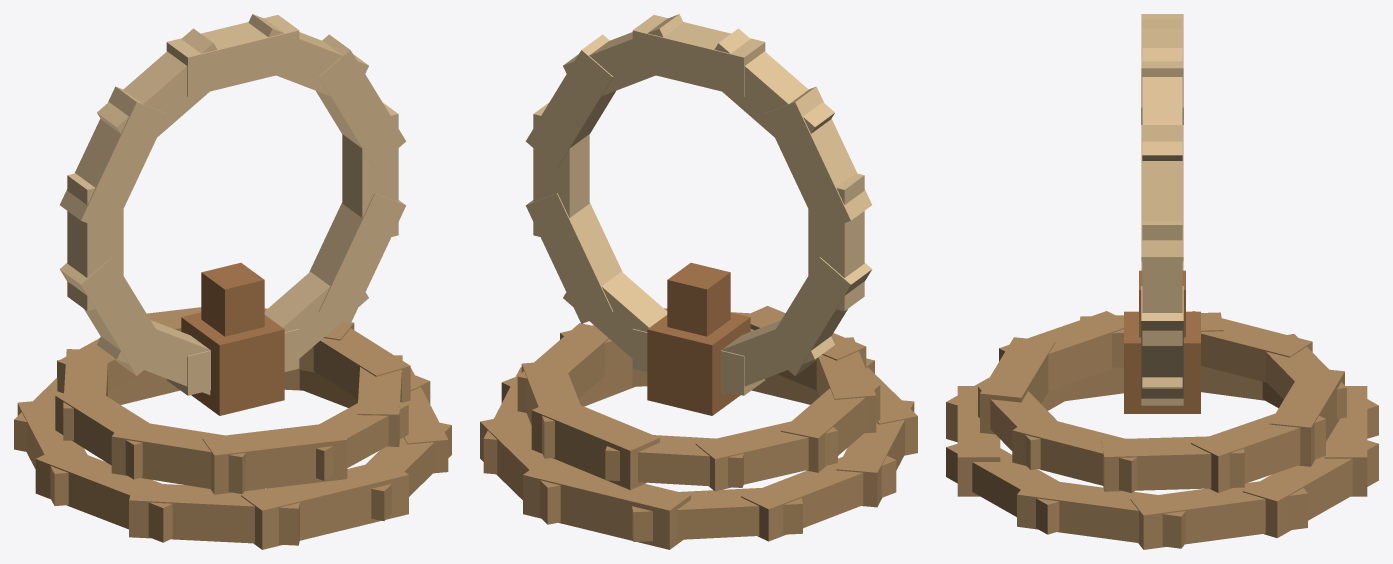
The model's file is lasso.glb.
3 renders of one model, left to right at view 1: azimuth 30°, elevation 25°; view 2: azimuth 150°, elevation 25°; view 3: azimuth 270°, elevation 25°, orthographic.
Parts seen in each view (by area): view 1: lasso; view 2: lasso; view 3: lasso.
Boxes of the visible parts, x1,y1,x2,y2 form: lasso: (14, 14, 451, 549); lasso: (480, 14, 917, 549); lasso: (946, 14, 1378, 549).
Bounding box in the file's own units: 0.5 × 0.5447 × 0.5.
